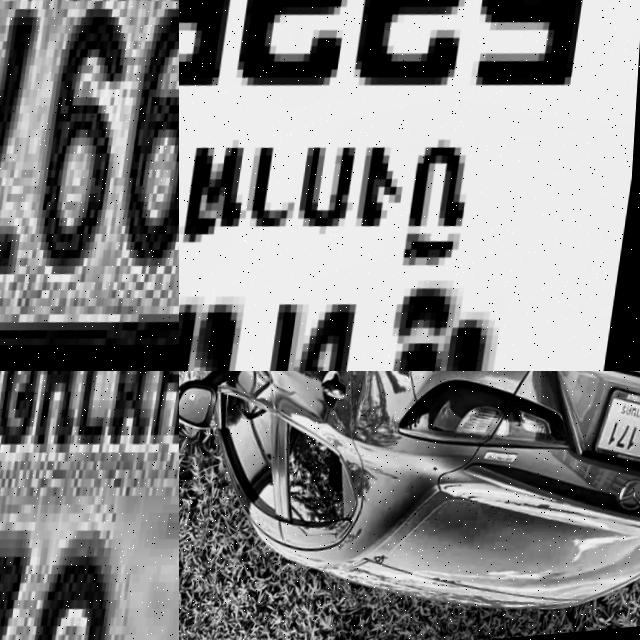license-plate: (179, 0, 640, 371), (0, 0, 179, 371), (0, 371, 179, 640), (589, 382, 640, 492)
